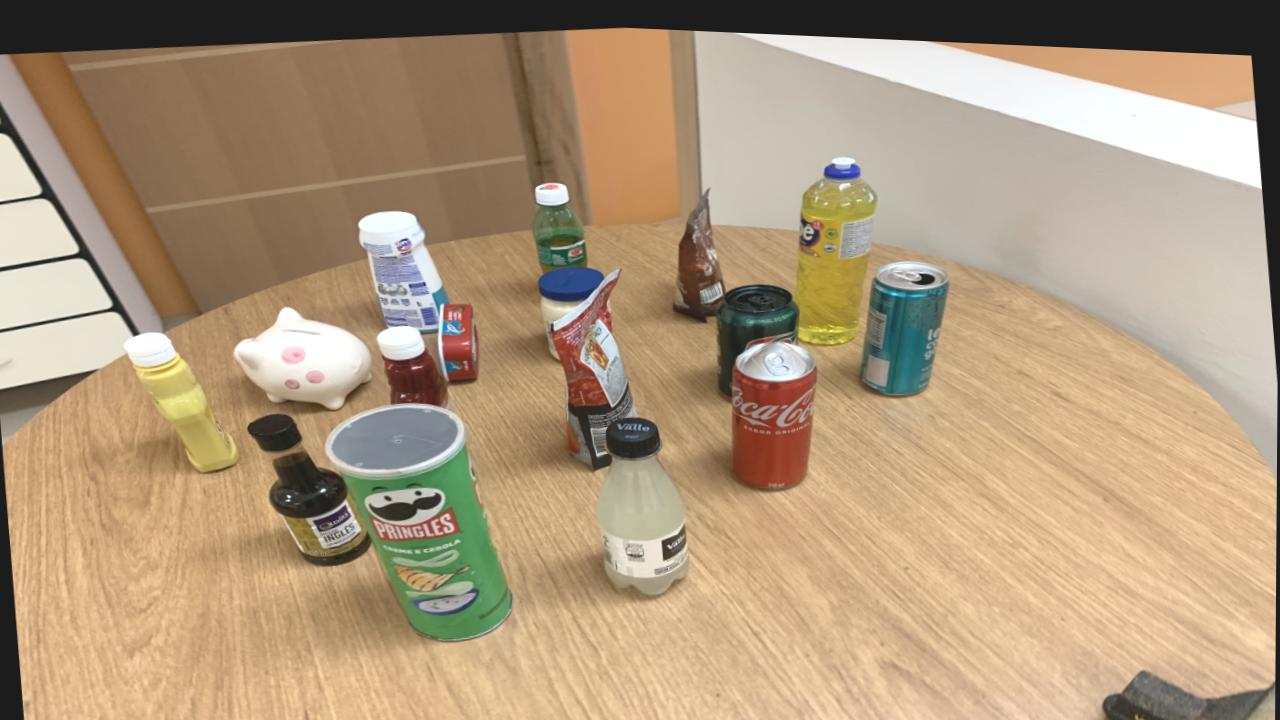Cleaner-Cleanup_Items: (357, 207, 448, 328)
Coffee-Pantry_Items: (673, 185, 725, 315)
Coke-Drinks: (731, 334, 817, 481)
Detergent-Cleanup_Items: (795, 148, 878, 337)
English_Sauce-Pantry_Items: (248, 412, 370, 563)
Guarana-Drinks: (532, 178, 587, 267)
Guarana_Can-Drinks: (716, 278, 800, 389)
Ketchup-Pantry_Items: (376, 321, 449, 404)
Mayonnaise-Pantry_Items: (539, 261, 604, 353)
Mustard-Pantry_Items: (124, 332, 239, 471)
Pig_Safe-Miscellaneous: (235, 305, 373, 406)
Pringles-Snacks: (325, 399, 513, 637)
Soda-Drinks: (597, 411, 690, 589)
Tea-Drinks: (861, 253, 950, 386)
Tomato_Sauce-Pantry_Items: (550, 265, 637, 464)
Tuna_Can-Pantry_Items: (438, 299, 479, 377)
